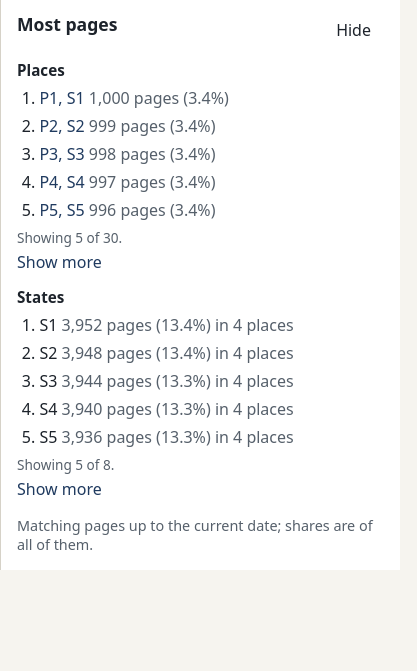
Test case: Most pages: Show more › expands each list on its own, and focuses the first state it adds, which has no button
Expected: the element "States" shows "Showing 5 of 8.", left=17, top=455, right=114, bottom=474
Click the button "Show more" below "Showing 5 of 8.": (59, 489) left=17, top=476, right=102, bottom=502
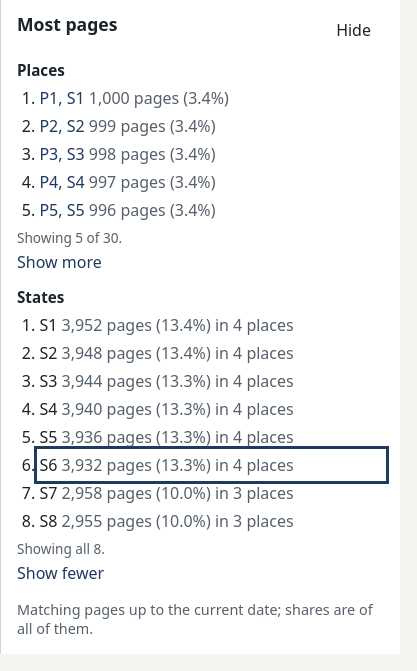
Now the element "States" shows "Showing all 8.", box left=17, top=539, right=105, bottom=558
Now the list item "S6 3,932 pages (13.3%) in 4 places" is shown, box left=39, top=454, right=294, bottom=476
